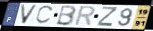9: (119, 7, 135, 27)
B: (54, 4, 77, 26)
C: (34, 5, 55, 25)
R: (72, 5, 96, 27)
V: (19, 4, 39, 24)
Z: (96, 6, 119, 28)
